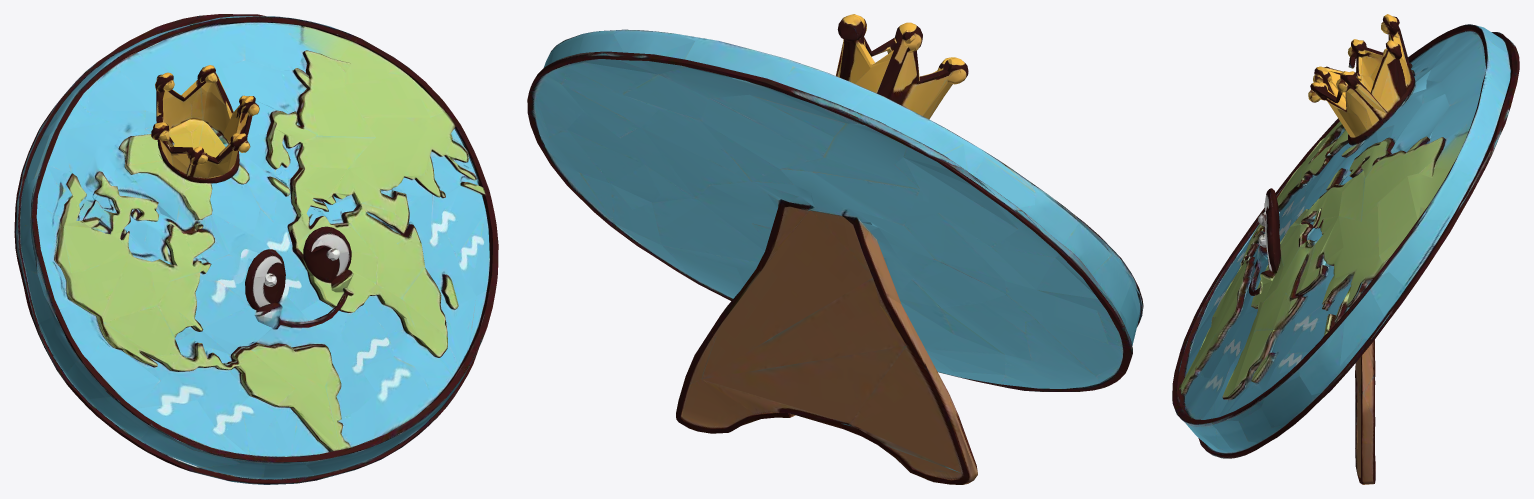
File: boss_flat.glb
3 renders of one model, left to right at view 1: azimuth 30°, elevation 25°; view 2: azimuth 150°, elevation 25°; view 3: azimuth 270°, elevation 25°, orthographic. The views are drawn at different scales.
Size of the model in its own units: 1.9 by 1.49 by 1.24.
1 material, 1 textured.
